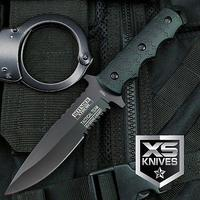knife: (3, 6, 176, 198)
